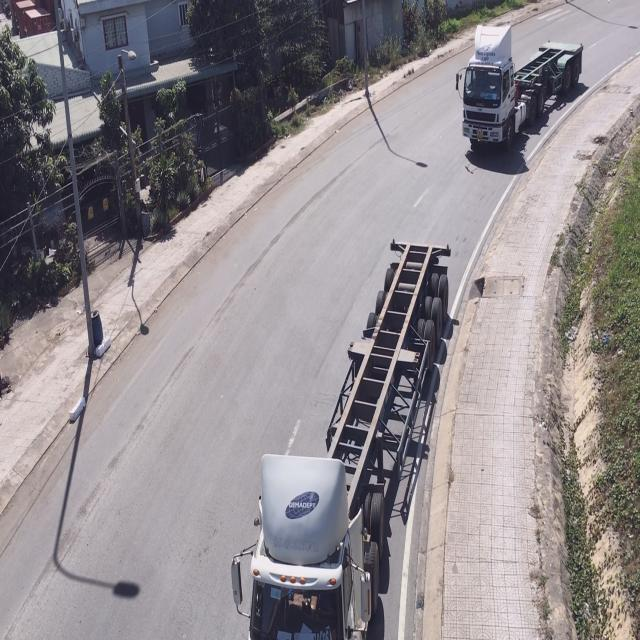truck: (247, 240, 450, 640), (458, 28, 584, 158)
